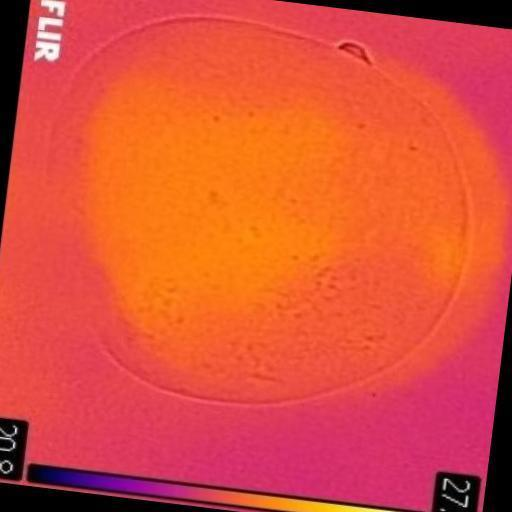alphanso: (48, 19, 468, 402)
